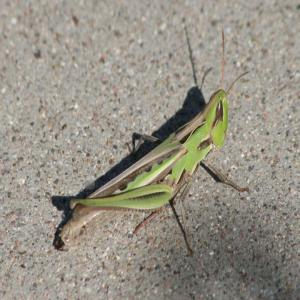locust: (43, 72, 244, 264)
